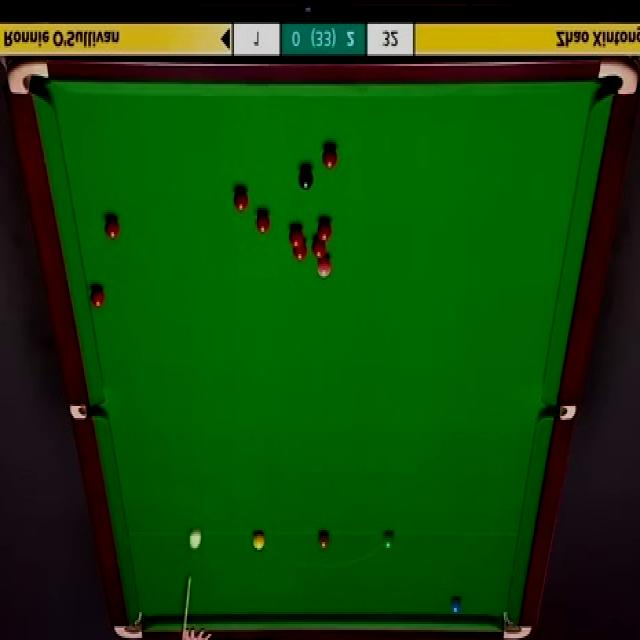black-ball: (298, 163, 315, 192)
blue-ball: (448, 593, 464, 618)
brown-ball: (317, 529, 331, 549)
green-ball: (382, 528, 396, 550)
pink-ball: (314, 255, 332, 279)
red-ball: (104, 213, 120, 241), (322, 144, 340, 168), (288, 224, 304, 247), (256, 209, 270, 235), (89, 285, 104, 309), (291, 240, 308, 261), (234, 188, 248, 212), (317, 220, 332, 242), (311, 238, 327, 258)
white-ball: (187, 528, 203, 552)
yellow-ball: (252, 530, 266, 550)
